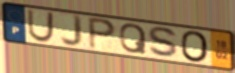J: (59, 14, 84, 49)
O: (179, 29, 210, 64)
P: (87, 15, 118, 52)
Q: (119, 23, 148, 56)
S: (146, 25, 181, 60)
U: (26, 8, 55, 44)
